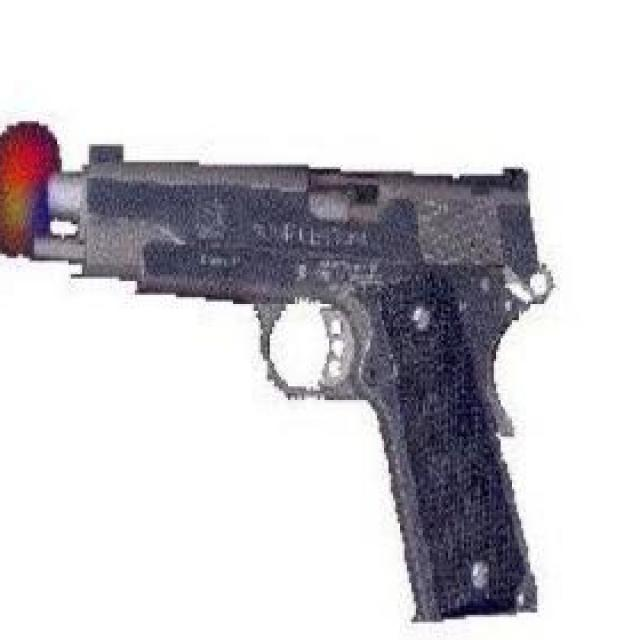pistol: (26, 133, 551, 625)
